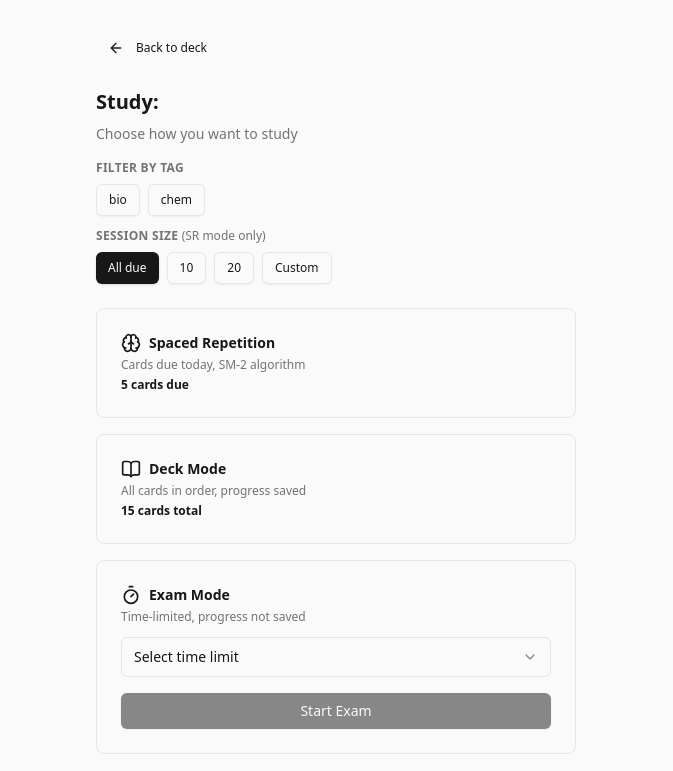
it: StudySessionPage config section › STUDY-01b: tag "bio" selected — only bio cards pass through; untagged excluded
Check: the text "Filter by tag" is shown, box [96, 159, 184, 176]
Click the button "bio". click: (118, 200)
box: [96, 184, 140, 216]
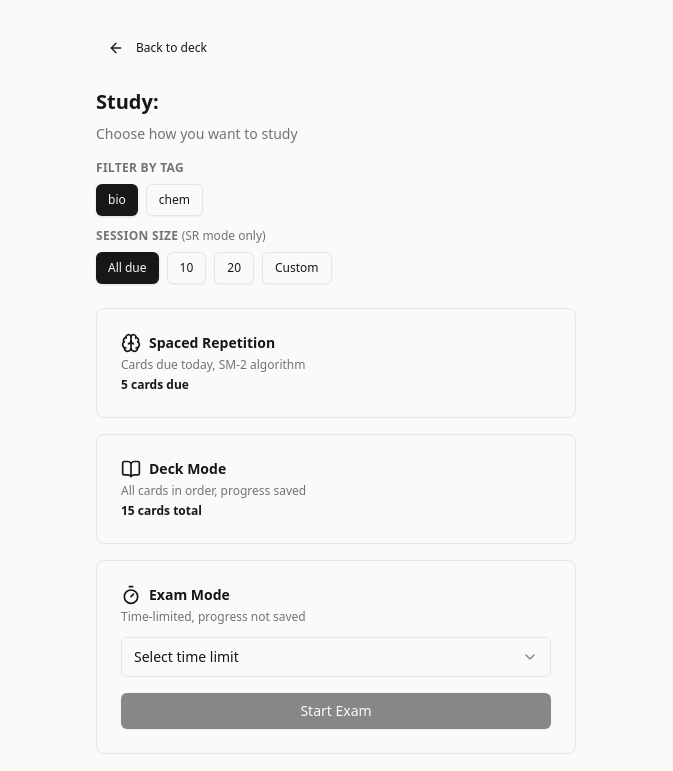
Check: the button "bio" has class "bg-primary", box [96, 184, 138, 216]
Click the button "Spaced Repetition". click: (212, 342)
box: [96, 308, 576, 418]
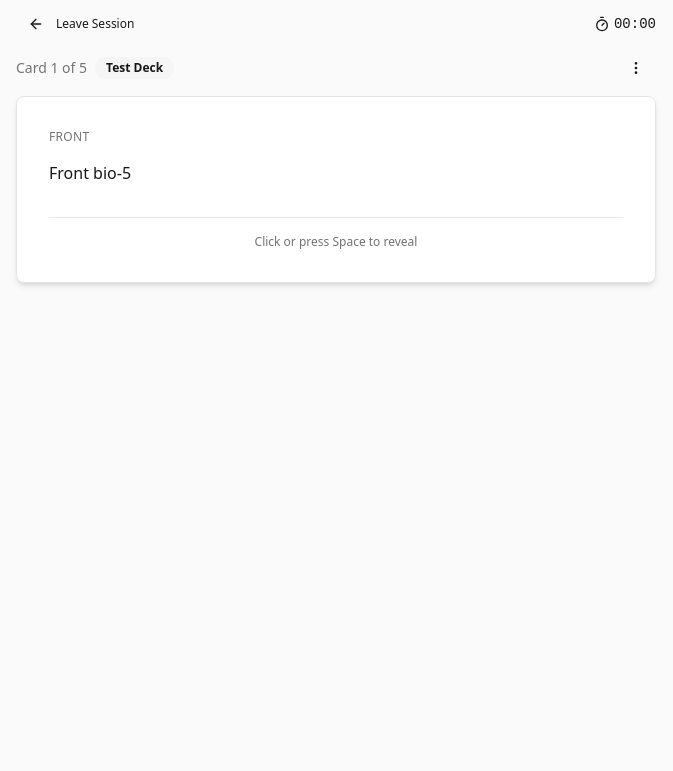
Check: the text "Card 1 of 5" is shown, box [16, 58, 87, 78]
